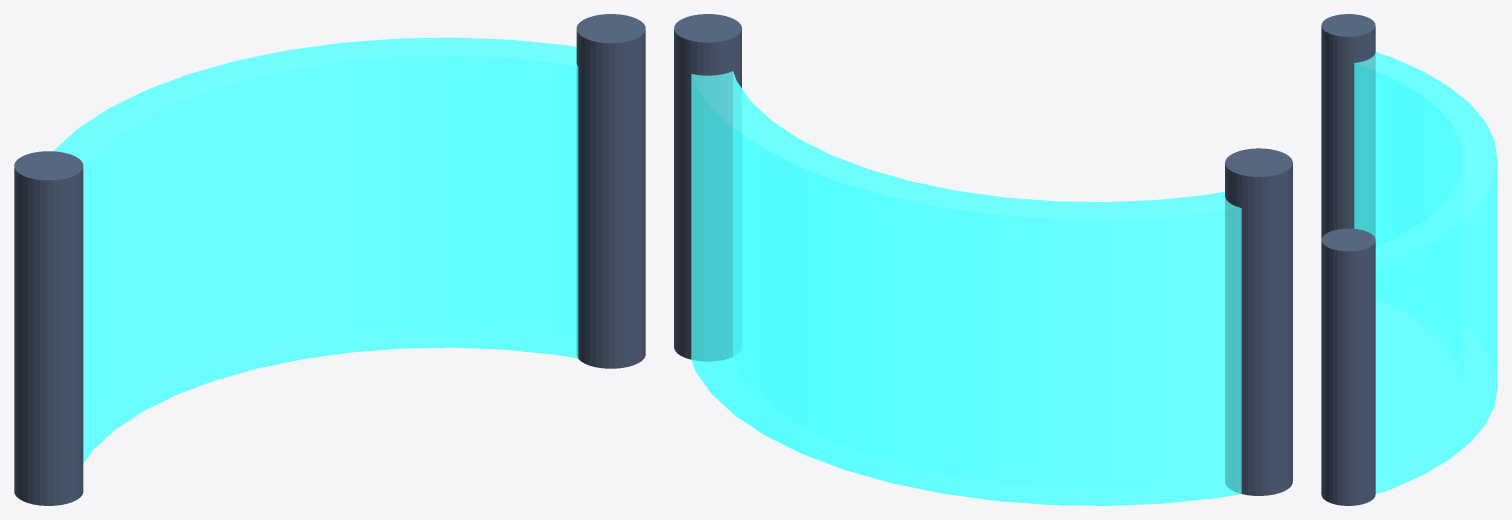
File: prop_gloowall.glb
3 renders of one model, left to right at view 1: azimuth 30°, elevation 25°; view 2: azimuth 150°, elevation 25°; view 3: azimuth 270°, elevation 25°, orthographic. The views are drawn at different scales.
Visible parts, largest first — view 1: SM_GlooWall, Pillar_-1, Pillar_1; view 2: SM_GlooWall, Pillar_-1, Pillar_1; view 3: SM_GlooWall, Pillar_1, Pillar_-1.
Part boxes in pixels (box(x1,y1,x2,y2)): SM_GlooWall: box(53, 37, 578, 463); Pillar_-1: box(14, 151, 83, 505); Pillar_1: box(576, 14, 645, 368); SM_GlooWall: box(691, 71, 1241, 505); Pillar_-1: box(1225, 148, 1292, 495); Pillar_1: box(674, 14, 741, 361); SM_GlooWall: box(1354, 52, 1497, 494); Pillar_1: box(1321, 228, 1375, 505); Pillar_-1: box(1321, 14, 1375, 239).
Size of the model in its own units: 5.8 by 2.9 by 1.82.
